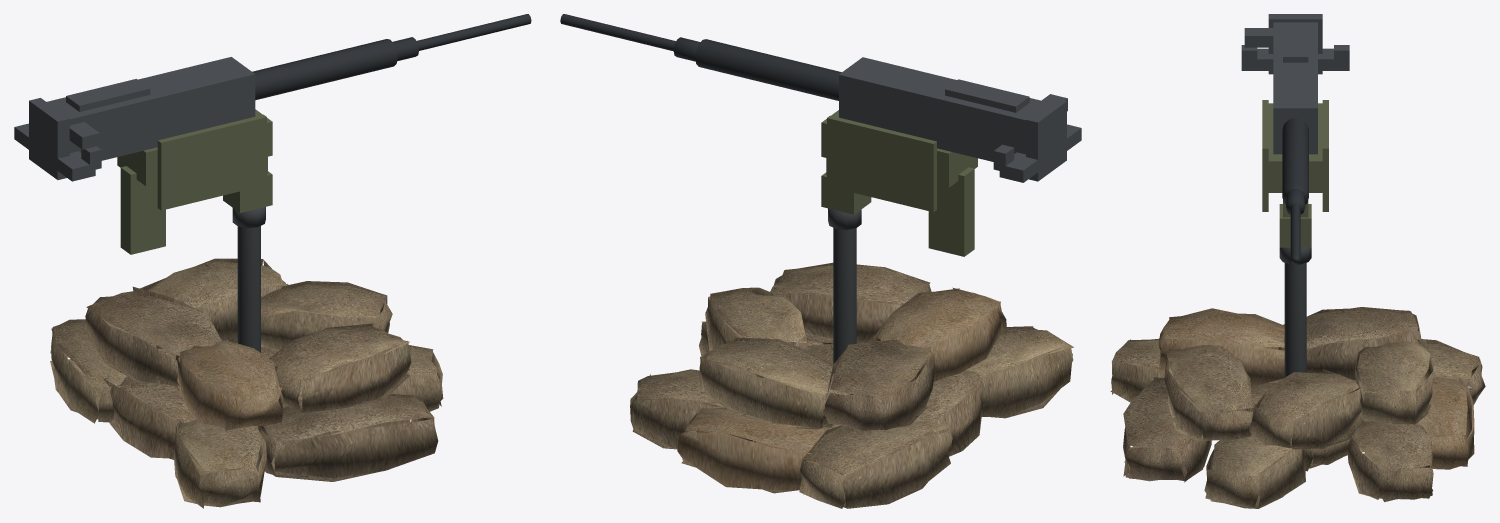
The model's file is mgun.glb.
3 renders of one model, left to right at view 1: azimuth 30°, elevation 25°; view 2: azimuth 150°, elevation 25°; view 3: azimuth 270°, elevation 25°, orthographic. The views are drawn at different scales.
Visible parts, largest first — view 1: SM_MG_Nest; view 2: SM_MG_Nest; view 3: SM_MG_Nest.
Part boxes in pixels (x1,y1,x2,y2): SM_MG_Nest: (14,14,531,508); SM_MG_Nest: (560,14,1081,508); SM_MG_Nest: (1110,14,1485,508).
Bounding box in the file's own units: 1.65 × 1.18 × 1.18.
5 materials, 1 textured.
